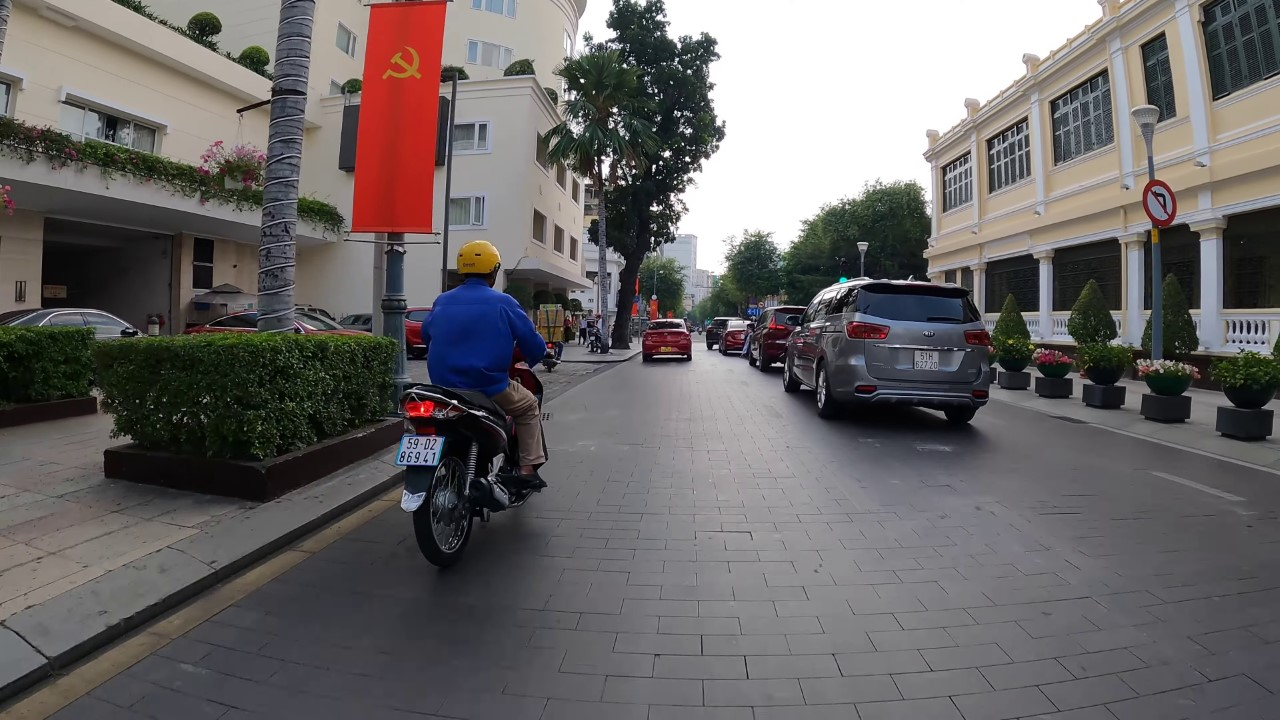cam_re_trai: (1137, 175, 1179, 229)
